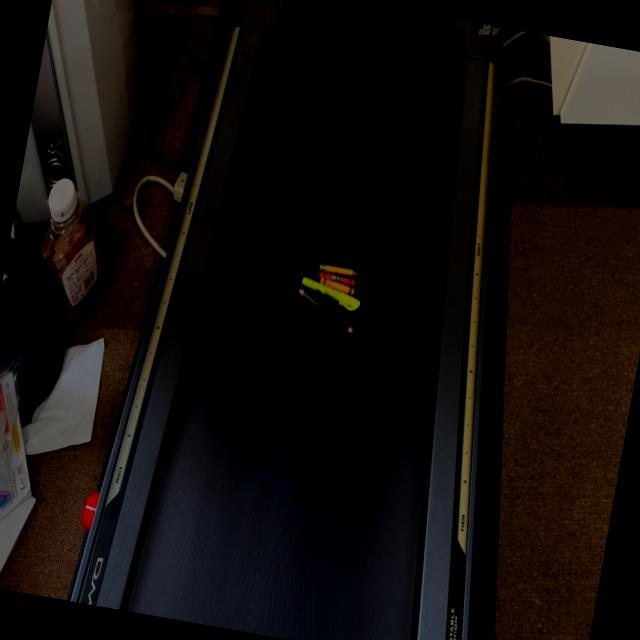Trash: (286, 240, 390, 356)
